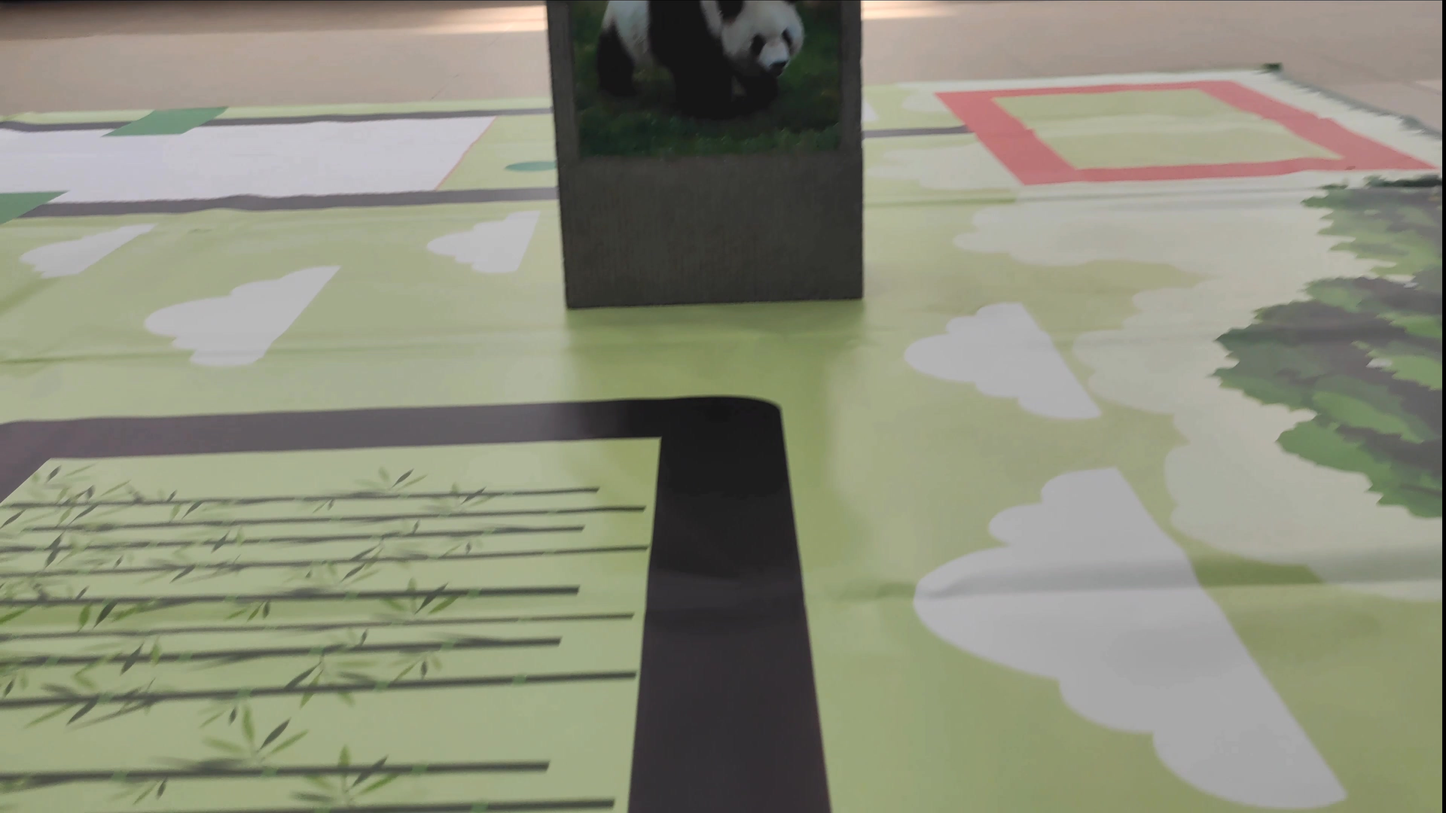panda: (593, 5, 824, 146)
